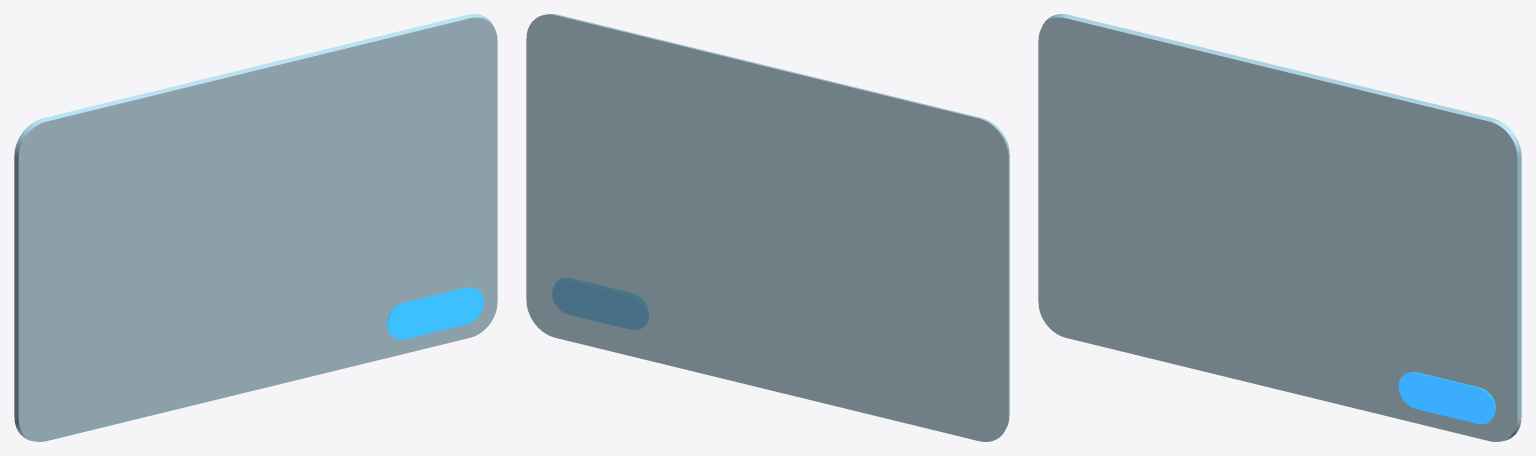
File: modal-dialog-e4e76d.glb
3 views of the same model, side by side, from view 1: azimuth 30°, elevation 25°; view 2: azimuth 150°, elevation 25°; view 3: azimuth 330°, elevation 25° (orthographic).
Parts seen in each view (by area): view 1: glass, rim, primary-button; view 2: glass, primary-button, rim; view 3: glass, rim, primary-button.
Boxes of the visible parts, left/top/right/bottom form: glass: left=18, top=17, right=497, bottom=441; rim: left=14, top=14, right=493, bottom=441; primary-button: left=387, top=287, right=483, bottom=339; glass: left=526, top=14, right=1008, bottom=441; primary-button: left=552, top=278, right=648, bottom=329; rim: left=547, top=14, right=1009, bottom=427; glass: left=1038, top=17, right=1517, bottom=441; rim: left=1042, top=14, right=1521, bottom=441; primary-button: left=1398, top=372, right=1495, bottom=424.
Bounding box in the file's own units: 0.5 × 0.32 × 0.013.
